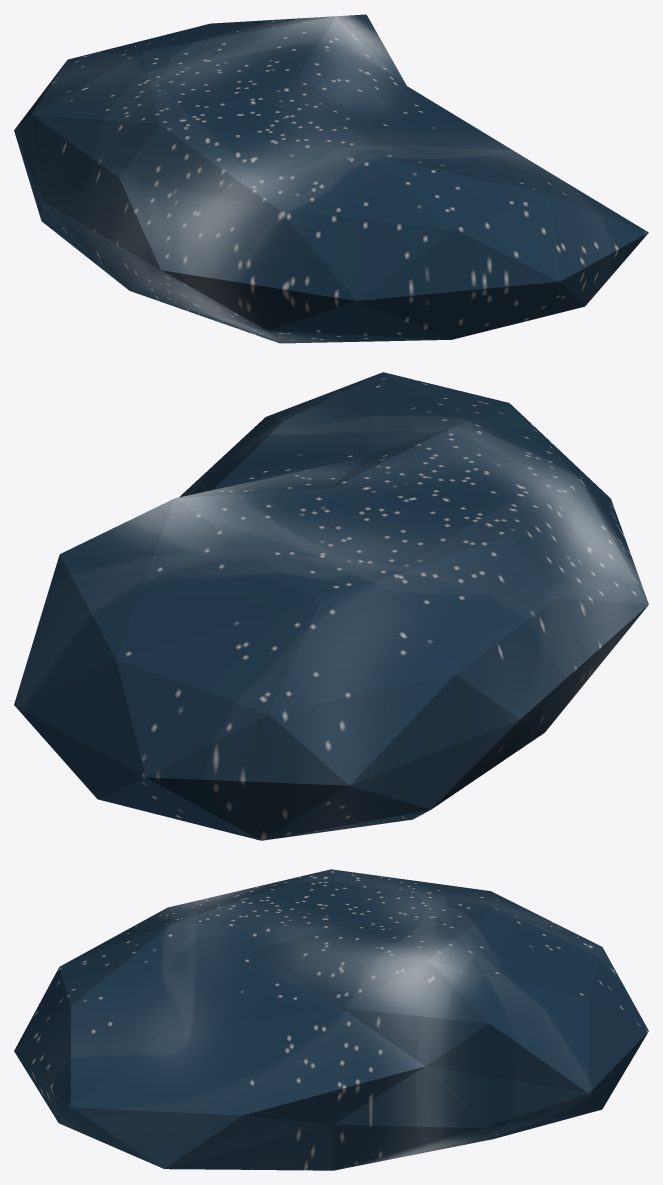
Rendered from Pebble_2.fbx.
The picture shows the model from 3 angles, top to bottom: view 1: azimuth 30°, elevation 25°; view 2: azimuth 150°, elevation 25°; view 3: azimuth 270°, elevation 25°; orthographic projection. The views are drawn at different scales.
Visible parts, largest first — view 1: Pebble_2; view 2: Pebble_2; view 3: Pebble_2.
Part boxes in pixels (x1=…): Pebble_2: x1=14, y1=14, x2=648, y2=343; Pebble_2: x1=14, y1=372, x2=648, y2=840; Pebble_2: x1=14, y1=869, x2=648, y2=1170.
Size of the model in its own units: 106 by 57 by 152.
